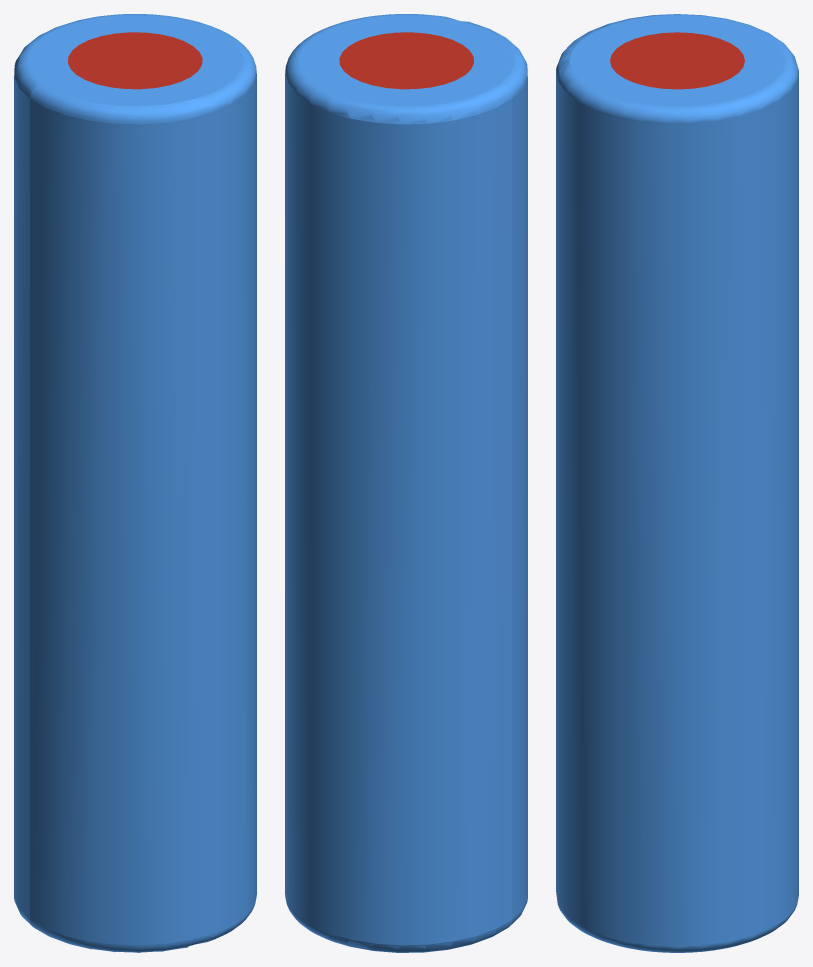
Rendered from ada-1781.glb.
3 renders of one model, left to right at view 1: azimuth 30°, elevation 25°; view 2: azimuth 150°, elevation 25°; view 3: azimuth 270°, elevation 25°, orthographic.
Visible parts, largest first — view 1: 0.08333333333333333_0.4166666666666667_1_0, 0.5833333333333334_0_0_0; view 2: 0.08333333333333333_0.4166666666666667_1_0, 0.5833333333333334_0_0_0; view 3: 0.08333333333333333_0.4166666666666667_1_0, 0.5833333333333334_0_0_0.
Part boxes in pixels (bbox=[...]): 0.08333333333333333_0.4166666666666667_1_0: bbox=[14, 14, 256, 952]; 0.5833333333333334_0_0_0: bbox=[68, 32, 202, 89]; 0.08333333333333333_0.4166666666666667_1_0: bbox=[285, 14, 527, 952]; 0.5833333333333334_0_0_0: bbox=[339, 32, 473, 89]; 0.08333333333333333_0.4166666666666667_1_0: bbox=[556, 14, 798, 952]; 0.5833333333333334_0_0_0: bbox=[610, 32, 744, 89].
Size of the model in its own units: 1.8 by 6.9 by 1.8.
